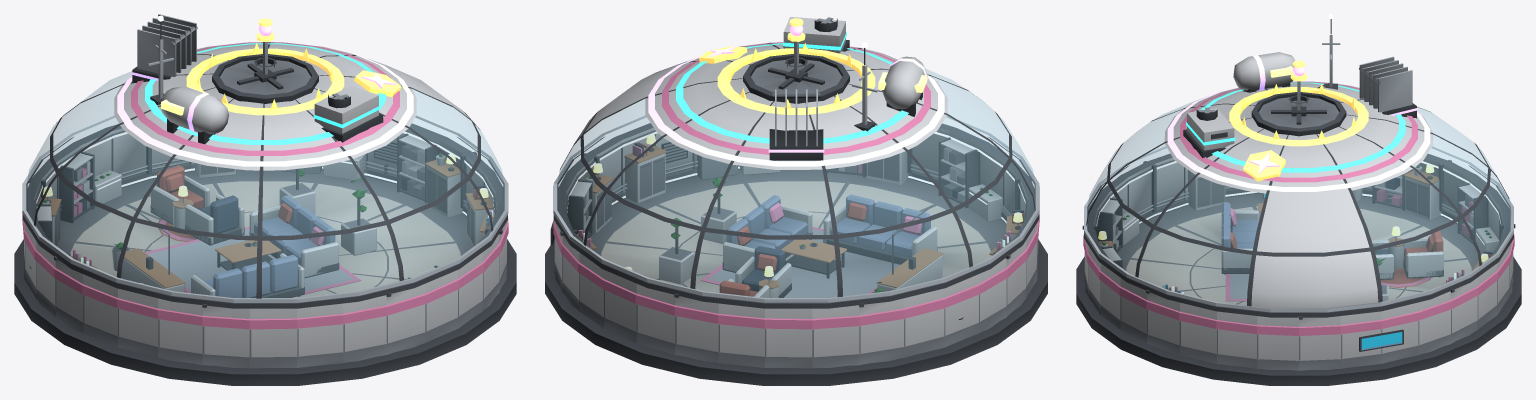
Rendered from lounge.glb.
The picture shows the model from 3 angles, left to right: view 1: azimuth 30°, elevation 25°; view 2: azimuth 150°, elevation 25°; view 3: azimuth 270°, elevation 25°; orthographic projection. The views are drawn at different scales.
Visible parts, largest first — view 1: Roof, Base, Interior, L4, L3, L5, Wall_21, Wall_20, Wall_22, Wall_19, Wall_23, Wall_18 (+24 smaller); view 2: Roof, Base, Interior, L4, L5, L3, Wall_10, Wall_11, Wall_09, Wall_30, Wall_12, Wall_22 (+22 smaller); view 3: Roof, Base, L4, Interior, L5, L3, Wall_00, Wall_31, Wall_30, Wall_12, Wall_29, Wall_01 (+20 smaller).
Boxes of the visible parts, x1,y1,x2,y2 form: Roof: (23,42,507,308); Base: (14,169,516,385); Interior: (111,165,376,297); L4: (117,14,413,166); L3: (145,43,385,144); L5: (186,18,401,115); Wall_21: (249,308,297,368); Wall_20: (202,304,249,368); Wall_22: (297,303,343,367); Wall_19: (157,298,202,365); Wall_23: (343,295,387,362); Wall_18: (117,283,158,357); Roof: (553,42,1039,308); Base: (545,169,1047,385); Interior: (659,169,943,297); L4: (648,41,944,166); L5: (699,18,875,114); L3: (676,17,908,143); Wall_10: (764,308,812,368); Wall_11: (812,305,859,368); Wall_09: (718,303,764,367); Wall_30: (615,123,666,203); Wall_12: (859,298,904,365); Wall_22: (938,128,987,207); Roof: (1084,81,1513,317); Base: (1076,193,1521,385); L4: (1167,52,1430,191); Interior: (1221,193,1443,301); L5: (1229,60,1368,181); L3: (1183,82,1405,172); Wall_00: (1299,316,1340,370); Wall_31: (1257,316,1298,370); Wall_30: (1216,311,1257,368); Wall_12: (1403,154,1451,220); Wall_29: (1179,302,1216,363); Wall_01: (1340,311,1381,368).
Bounding box in the file's own units: 9.72 × 5.78 × 9.72.
